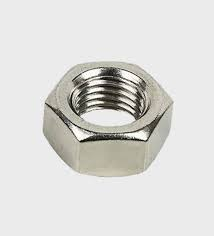Thread: (62, 61, 159, 133)
